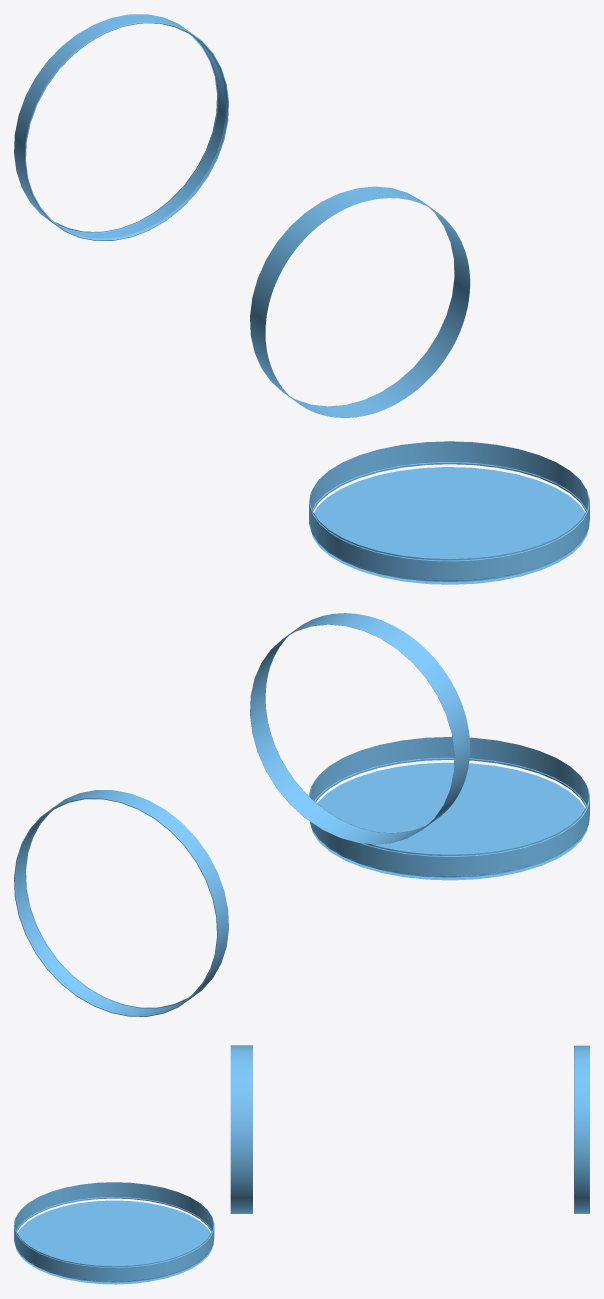
Rendered from ur3e_scaled_18.obj.
3 renders of one model, top to bottom at view 1: azimuth 30°, elevation 25°; view 2: azimuth 150°, elevation 25°; view 3: azimuth 270°, elevation 25°, orthographic. The views are drawn at different scales.
Size of the model in its own units: 0.0749 by 0.0781 by 0.2154.
